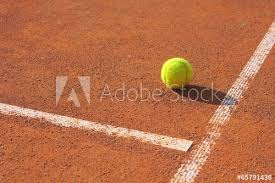tennis_ball: (159, 56, 194, 90)
